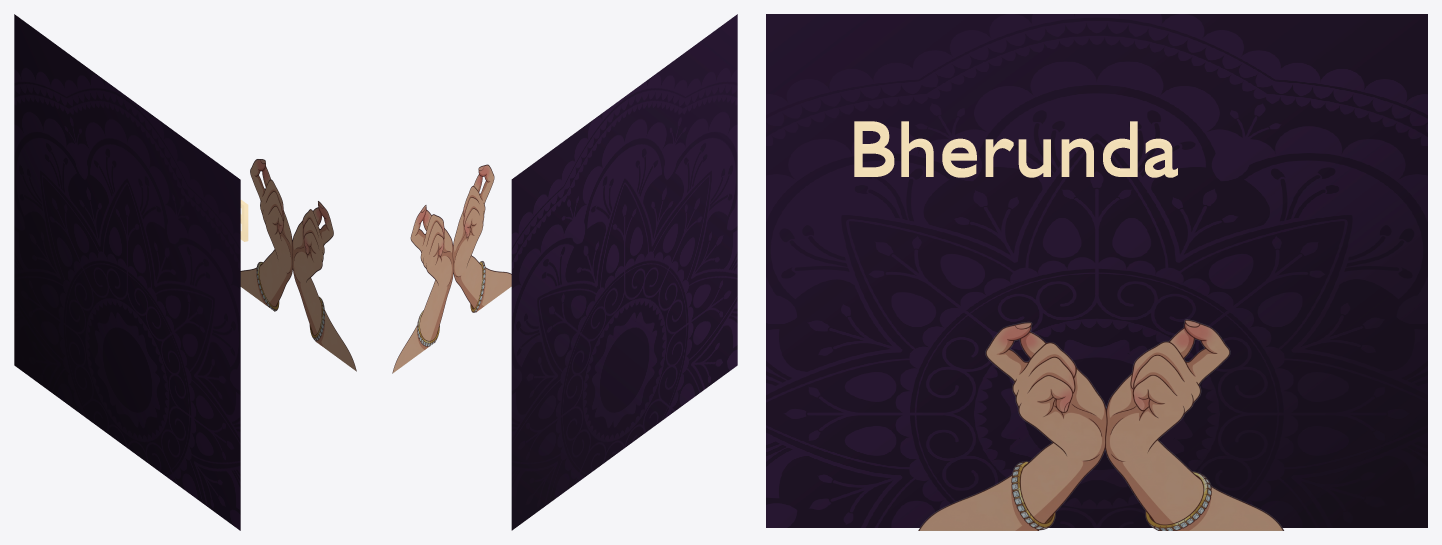
Rendered from Bherunda.glb.
3 views of the same model, side by side, from view 1: azimuth 30°, elevation 25°; view 2: azimuth 150°, elevation 25°; view 3: azimuth 270°, elevation 25° (orthographic). The views are drawn at different scales.
Parts seen in each view (by area): view 1: Plane.021, Anjali.021; view 2: Plane.021, Anjali.021; view 3: Plane.021, Anjali.021, Text.043.
Boxes of the visible parts, x1,y1,x2,y2 form: Plane.021: (14,14,240,530); Anjali.021: (240,159,356,371); Plane.021: (511,14,737,530); Anjali.021: (392,164,511,373); Plane.021: (766,14,1427,527); Anjali.021: (918,319,1284,530); Text.043: (854,121,1177,177).
Bounding box in the file's own units: 1.53 × 3.05 × 3.56.
3 materials, 2 textured.
